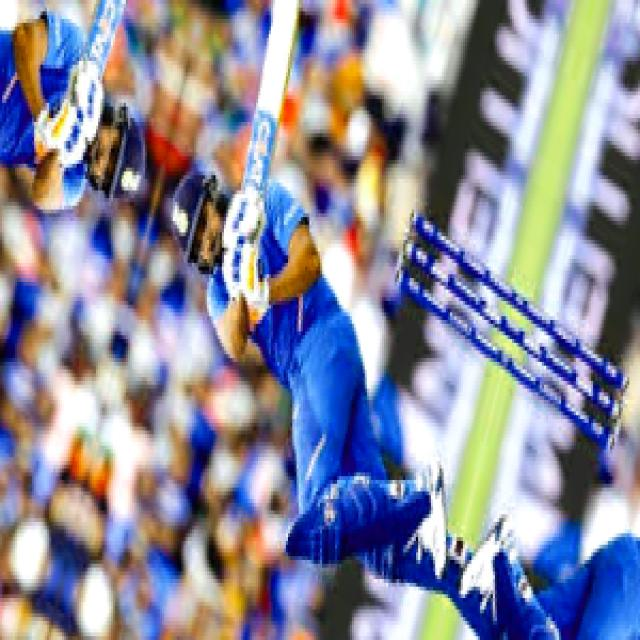toe: (273, 0, 309, 19)
